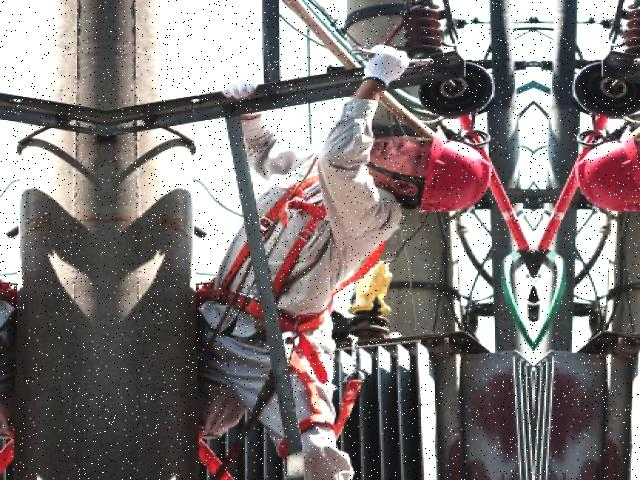Helmet: (415, 125, 504, 222)
